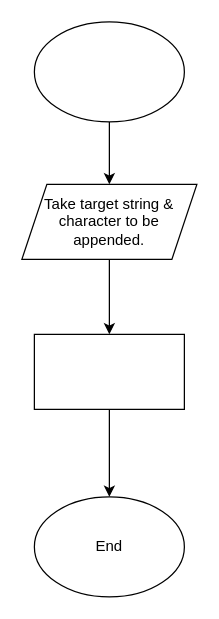
Image size: 219x619. Some labels were removed from this diagram. The centre of each missing label's shape, as x and y in pixels:
"Append the character at the base of last character in string." goes at [108,371].
"Start" goes at [108,71].
